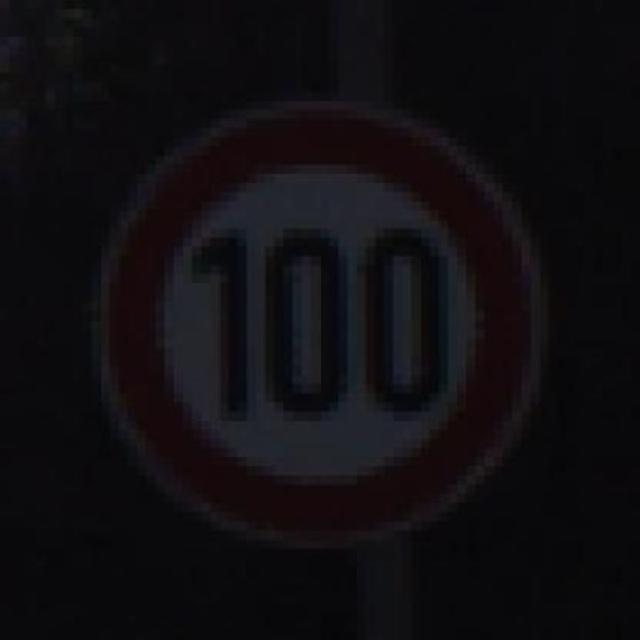forb_speed_over_100: (107, 109, 541, 543)
